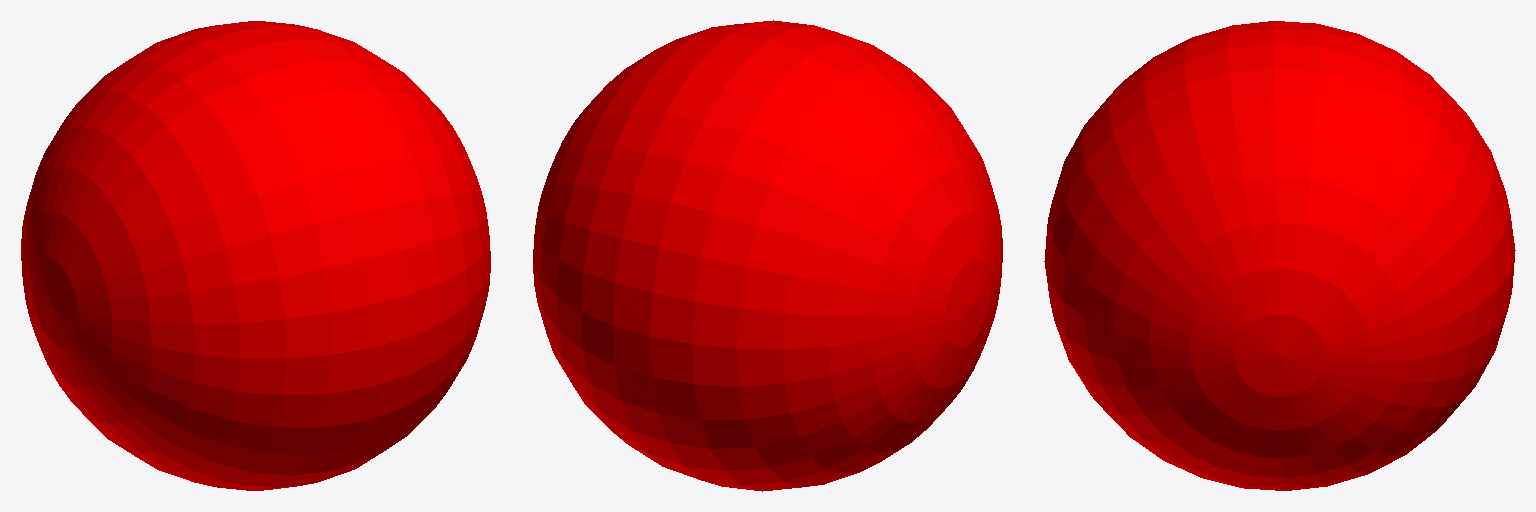
The robot description file, URDF, robot "panda":
<?xml version='1.0' encoding='utf-8'?>
<robot name="panda">
  
  <link name="panda_link0">
    <visual>
      <geometry>
        <mesh filename="../meshes/panda/link0.dae" />
      </geometry>
    </visual>
  </link>
  <link name="panda_link1">
    <visual>
      <geometry>
        <mesh filename="../meshes/panda/link1.dae" />
      </geometry>
    </visual>
  </link>
  
  
  <joint name="panda_joint1" type="revolute">
    <origin rpy="-2.0355694699737142e-05 -2.8551892429784928e-09 -1.9030793271206534e-17" xyz="-1.2935729674675946e-16 -5.696929452271708e-17 0.33300000000000024" />
    <parent link="panda_link0" />
    <child link="panda_link1" />
    <axis xyz="0 0 1" />
    <limit effort="87.0" lower="-2.8973" upper="2.8973" velocity="2.175" />
    <safety_controller k_position="100.0" k_velocity="40.0" soft_lower_limit="-2.8973" soft_upper_limit="2.8973" />
  </joint>
  
  <link name="panda_link2">
    <visual>
      <geometry>
        <mesh filename="../meshes/panda/link2.dae" />
      </geometry>
    </visual>
  </link>
  
  <joint name="panda_joint2" type="revolute">
    <origin rpy="-1.5663717086115247 0.0009238417600107593 1.0179914805434003e-09" xyz="-0.00014805410119581621 -0.000619168563806805 3.408154257294014e-16" />
    <parent link="panda_link1" />
    <child link="panda_link2" />
    <axis xyz="0 0 1" />
    <limit effort="87.0" lower="-1.7628" upper="1.7628" velocity="2.175" />
    <safety_controller k_position="100.0" k_velocity="40.0" soft_lower_limit="-1.7628" soft_upper_limit="1.7628" />
  </joint>
  
  <link name="panda_link3">
    <visual>
      <geometry>
        <mesh filename="../meshes/panda/link3.dae" />
      </geometry>
    </visual>
  </link>
  
  <joint name="panda_joint3" type="revolute">
    <origin rpy="1.5712448573265205 0.0003675422370507598 0.0008233251486740604" xyz="0.0003181249935433959 -0.3168341251832623 -0.0006191649945068513" />
    <parent link="panda_link2" />
    <child link="panda_link3" />
    <axis xyz="0 0 1" />
    <limit effort="87.0" lower="-2.8973" upper="2.8973" velocity="2.175" />
    <safety_controller k_position="100.0" k_velocity="40.0" soft_lower_limit="-2.8973" soft_upper_limit="2.8973" />
  </joint>
  
  <link name="panda_link4">
    <visual>
      <geometry>
        <mesh filename="../meshes/panda/link4.dae" />
      </geometry>
    </visual>
  </link>
  
  <joint name="panda_joint4" type="revolute">
    <origin rpy="1.568597543632454 0.0017324032007747278 -0.0003840582655969283" xyz="0.08199831437787787 0.0001957222099840283 0.0008346641993008366" />
    <parent link="panda_link3" />
    <child link="panda_link4" />
    <axis xyz="0 0 1" />
    <limit effort="87.0" lower="-3.0718" upper="-0.0698" velocity="2.175" />
    <safety_controller k_position="100.0" k_velocity="40.0" soft_lower_limit="-3.0718" soft_upper_limit="-0.0698" />
  </joint>
  
  <link name="panda_link5">
    <visual>
      <geometry>
        <mesh filename="../meshes/panda/link5.dae" />
      </geometry>
    </visual>
  </link>
  
  <joint name="panda_joint5" type="revolute">
    <origin rpy="-1.5706033289126102 0.011486580301602819 -0.0014976198095413764" xyz="-0.08204015585311616 0.38471576074779346 -0.00019369445893610058" />
    <parent link="panda_link4" />
    <child link="panda_link5" />
    <axis xyz="0 0 1" />
    <limit effort="12.0" lower="-2.8973" upper="2.8973" velocity="2.61" />
    <safety_controller k_position="100.0" k_velocity="40.0" soft_lower_limit="-2.8973" soft_upper_limit="2.8973" />
  </joint>
  
  <link name="panda_link6">
    <visual>
      <geometry>
        <mesh filename="../meshes/panda/link6.dae" />
      </geometry>
    </visual>
  </link>
  
  <joint name="panda_joint6" type="revolute">
    <origin rpy="1.567657121829646 0.002087243828705672 0.01148628749964703" xyz="0.0009333764668138829 3.071152125803715e-05 0.0007164117085875597" />
    <parent link="panda_link5" />
    <child link="panda_link6" />
    <axis xyz="0 0 1" />
    <limit effort="12.0" lower="-0.0175" upper="3.7525" velocity="2.61" />
    <safety_controller k_position="100.0" k_velocity="40.0" soft_lower_limit="-0.0175" soft_upper_limit="3.7525" />
  </joint>
  
  <link name="panda_link7">
    <visual>
      <geometry>
        <mesh filename="../meshes/panda/link7.dae" />
      </geometry>
    </visual>
  </link>
  
  <joint name="panda_joint7" type="revolute">
    <origin rpy="1.5734147361596689 5.659518976060473e-06 -0.0019275003148919855" xyz="0.0886512928565176 -0.0014051767694575263 -1.7728949732386956e-05" />
    <parent link="panda_link6" />
    <child link="panda_link7" />
    <axis xyz="0 0 1" />
    <limit effort="12.0" lower="-2.8973" upper="2.8973" velocity="2.61" />
    <safety_controller k_position="100.0" k_velocity="40.0" soft_lower_limit="-2.8973" soft_upper_limit="2.8973" />
  </joint>
  <link name="panda_link8" />
  <joint name="panda_joint8" type="fixed">
    <origin rpy="0 0 0" xyz="0 0 0.107" />
    <parent link="panda_link7" />
    <child link="panda_link8" />
  </joint>
  <joint name="panda_hand_joint" type="fixed">
    <parent link="panda_link8" />
    <child link="panda_hand" />
    <origin rpy="0 0 -0.7853981633974483" xyz="0 0 0" />
  </joint>
  
  <link name="panda_hand">
    <visual>
      <geometry>
        <mesh filename="../meshes/panda/hand.dae" />
      </geometry>
    </visual>
  </link>
  <link name="panda_hand_tcp" />
  <joint name="panda_hand_tcp_joint" type="fixed">
    <origin rpy="0 0 0" xyz="0 0 0.1034" />
    <parent link="panda_hand" />
    <child link="panda_hand_tcp" />
  </joint>
  <link name="ball_link">
    <visual>
      <material name="red">
        <color rgba="1 0 0 1" />
      </material>

      <geometry>
        <sphere radius="0.005" />
      </geometry>
    </visual>
  </link>

  <joint name="ball_joint" type="fixed">
    <origin rpy="0.0 0.0 0.0" xyz="-0.0009106525430812897 -0.007175258660771381 0.03153248671093189" />
    <parent link="panda_hand_tcp" />
    <child link="ball_link" />
  </joint>
  <link name="panda_leftfinger">
    <visual>
      <geometry>
        <mesh filename="../meshes/panda/finger.dae" />
      </geometry>
    </visual>
  </link>
  <link name="panda_rightfinger">
    <visual>
      <origin rpy="0 0 3.141592653589793" xyz="0 0 0" />
      <geometry>
        <mesh filename="../meshes/panda/finger.dae" />
      </geometry>
    </visual>
  </link>
  <joint name="panda_finger_joint1" type="fixed">
    <parent link="panda_hand" />
    <child link="panda_leftfinger" />
    <origin rpy="0 0 0" xyz="0 0 0.0584" />
  </joint>
  <joint name="panda_finger_joint2" type="fixed">
    <parent link="panda_hand" />
    <child link="panda_rightfinger" />
    <origin rpy="0 0 0" xyz="0 0 0.0584" />
  </joint>
</robot>

--- Facts derived from the render (not from the file) ---
3 views of the same robot in one strip: view 1: azimuth 30°, elevation 25°; view 2: azimuth 150°, elevation 25°; view 3: azimuth 270°, elevation 25° (orthographic).
Robot: panda — 14 links, 13 joints (7 revolute, 6 fixed); root link panda_link0; default pose: joints at zero except 1 at the middle of their limits (panda_joint4 = -1.57).
Visible links, largest first — view 1: ball_link; view 2: ball_link; view 3: ball_link.
Boxes of the visible links, x1=… form: ball_link: x1=21, y1=21, x2=490, y2=490; ball_link: x1=533, y1=20, x2=1002, y2=491; ball_link: x1=1044, y1=21, x2=1515, y2=490.
Size in the robot's own frame: 0.01 by 0.01 by 0.01 metres.
0 mesh visuals loaded from 10 distinct referenced files (none loaded); not drawn: 11 (reference not matched to a file when rendering).